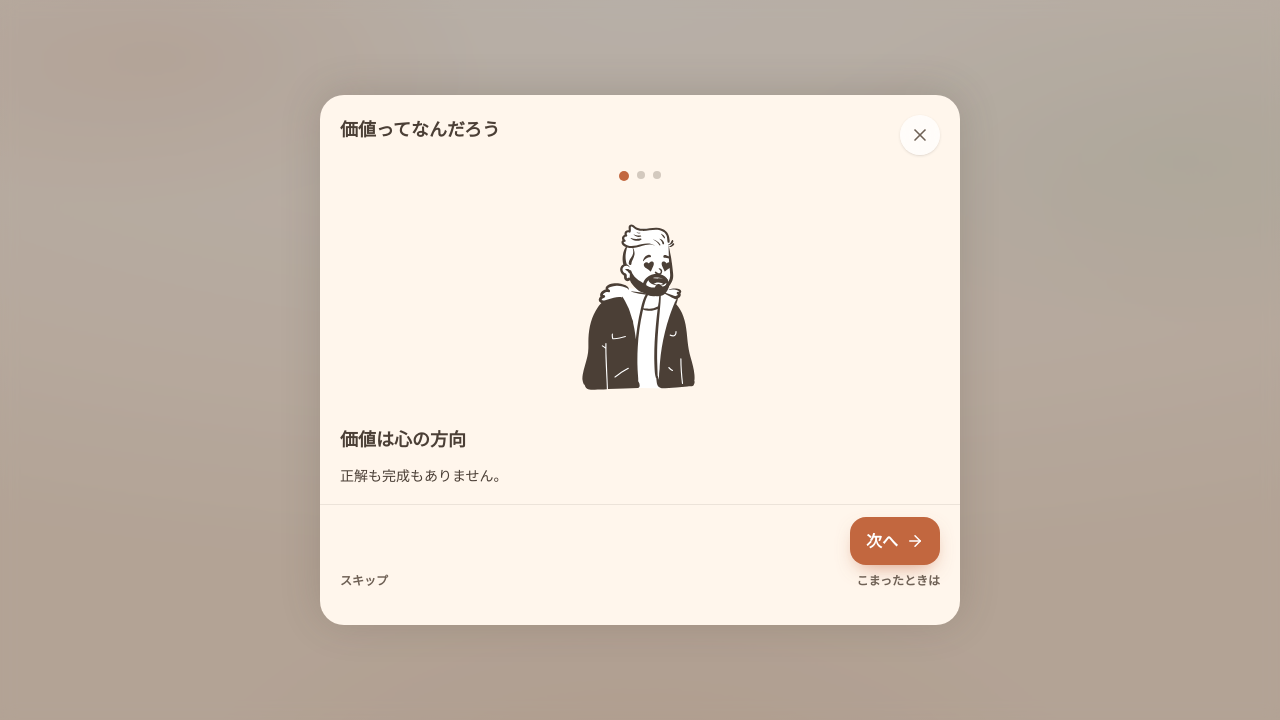
it: TopicStepModal › 「こまったときは」で安全情報を表示し、「もどる」でステップに戻る
This screenshot has width=1280, height=720.
Click the button "こまったときは".
click(898, 581)  # box x1=856 y1=573 x2=940 y2=589
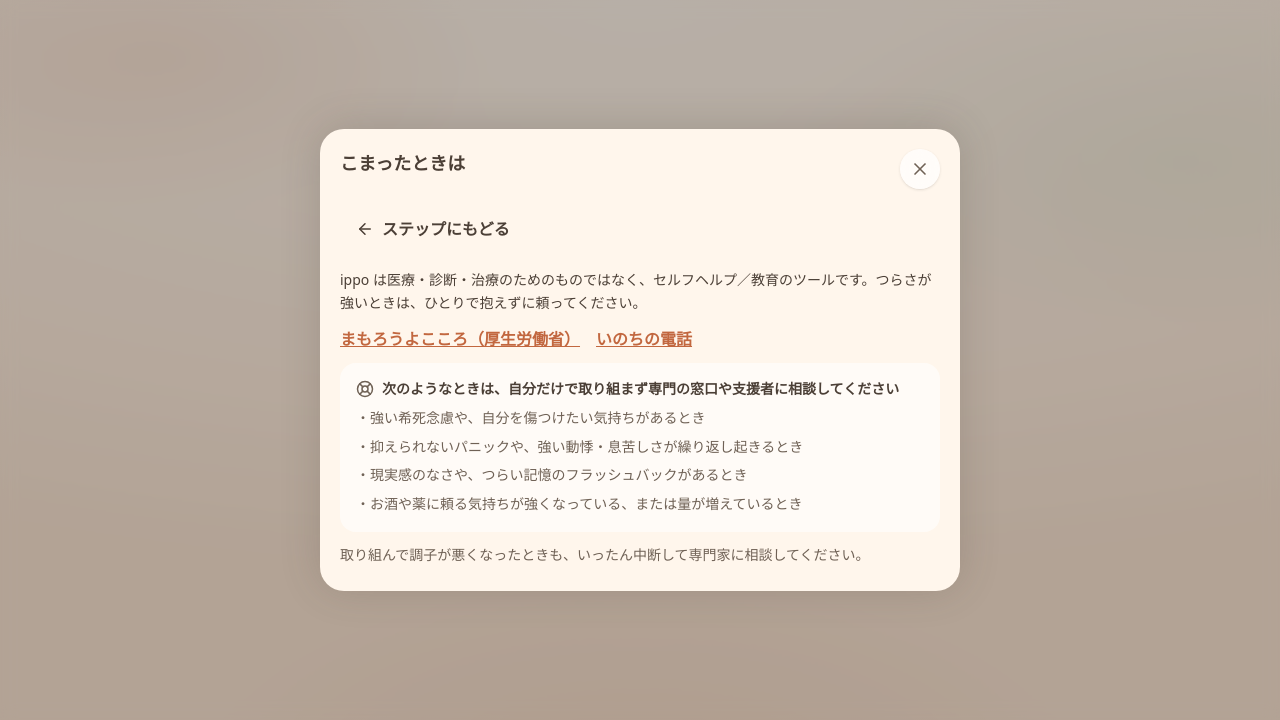
expect the text "次のようなときは、自分だけで取り組まず専門の窓口や支援者に相談してください" is shown: met, box x1=382 y1=379 x2=899 y2=399
expect the heading "価値は心の方向" is gone: met
Click the button "ステップにもどる".
click(433, 229)  # box x1=340 y1=205 x2=526 y2=253
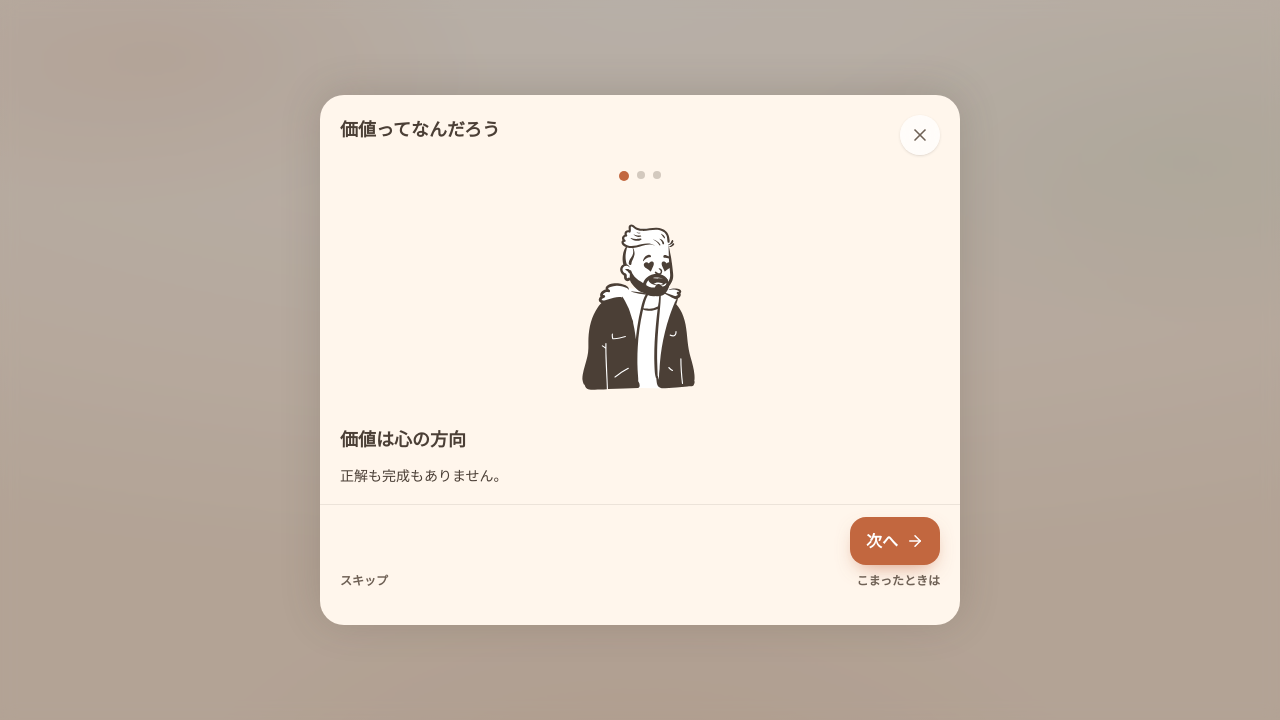
expect the heading "価値は心の方向" is shown: met, box x1=340 y1=427 x2=466 y2=451
